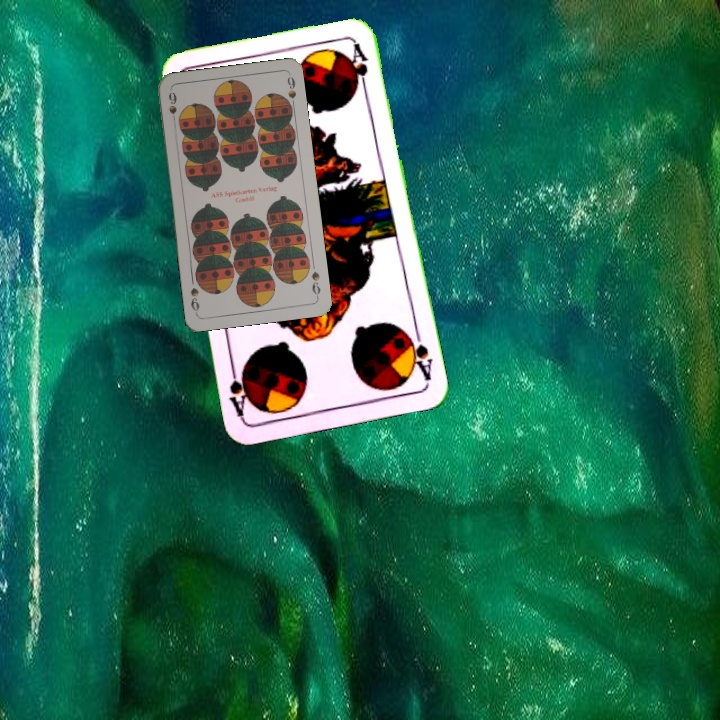S9: (307, 267, 323, 300), (164, 88, 179, 117)
SA: (402, 325, 435, 383)
